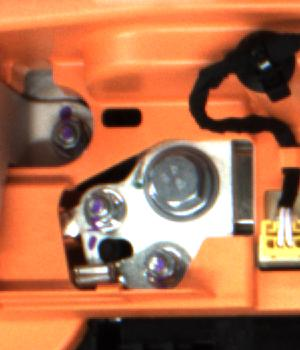nut_b: (139, 149, 220, 223)
screw_s: (142, 243, 180, 287), (82, 190, 122, 226), (50, 115, 82, 152)
